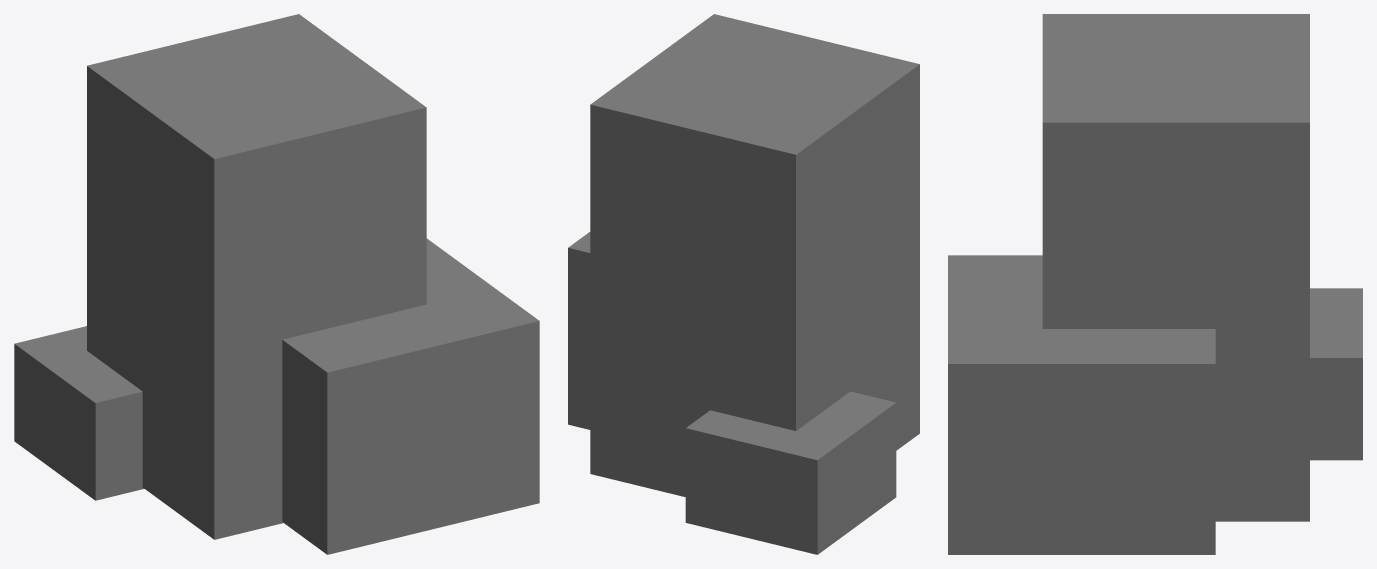
Rendered from Rock_V2_Geo.fbx.
The picture shows the model from 3 angles, left to right: view 1: azimuth 30°, elevation 25°; view 2: azimuth 150°, elevation 25°; view 3: azimuth 270°, elevation 25°; orthographic projection. The views are drawn at different scales.
Visible parts, largest first — view 1: Rock_V2_Geo; view 2: Rock_V2_Geo; view 3: Rock_V2_Geo.
Part boxes in pixels (left/top/right/bottom): Rock_V2_Geo: left=14, top=14, right=539, bottom=554; Rock_V2_Geo: left=568, top=14, right=919, bottom=554; Rock_V2_Geo: left=948, top=14, right=1362, bottom=554.
Size of the model in its own units: 33.51 by 37.4 by 35.07.
